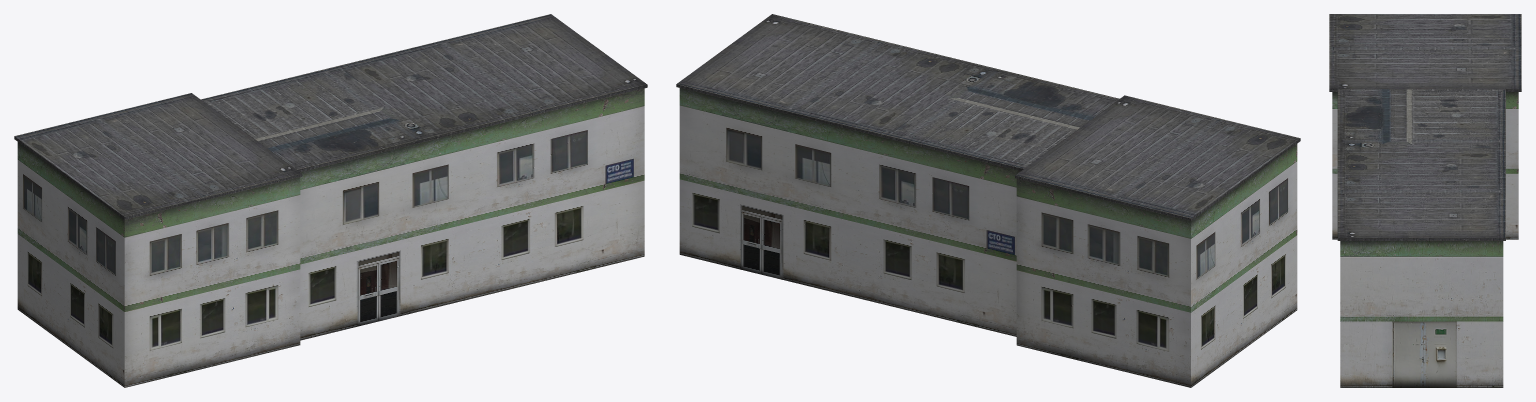
The model's file is r254_isilkul_sto.FBX.
3 views of the same model, side by side, from view 1: azimuth 30°, elevation 25°; view 2: azimuth 150°, elevation 25°; view 3: azimuth 270°, elevation 25° (orthographic). The views are drawn at different scales.
Visible parts, largest first — view 1: r254_isilkul_sto; view 2: r254_isilkul_sto; view 3: r254_isilkul_sto.
Part boxes in pixels (box(x1,y1,x2,y2)): r254_isilkul_sto: box(14, 14, 647, 387); r254_isilkul_sto: box(676, 14, 1300, 387); r254_isilkul_sto: box(1329, 14, 1521, 387).
Size of the model in its own units: 19.53 by 7.08 by 6.1.
